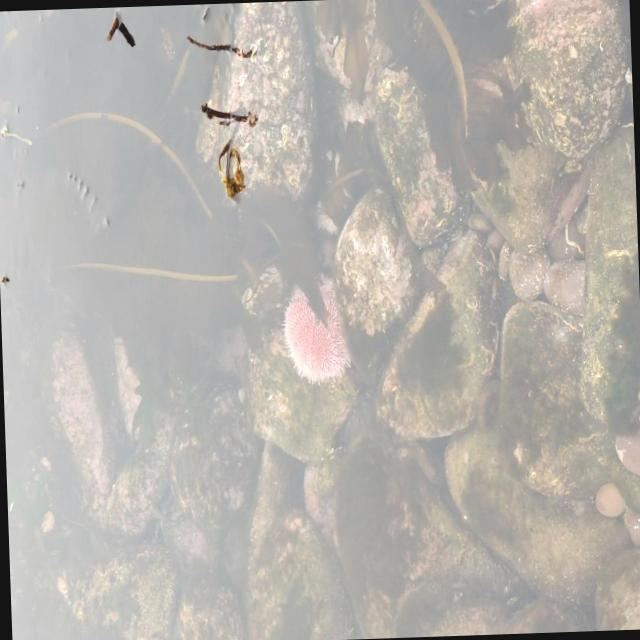Deniz Kestanesi: (278, 272, 352, 386)
